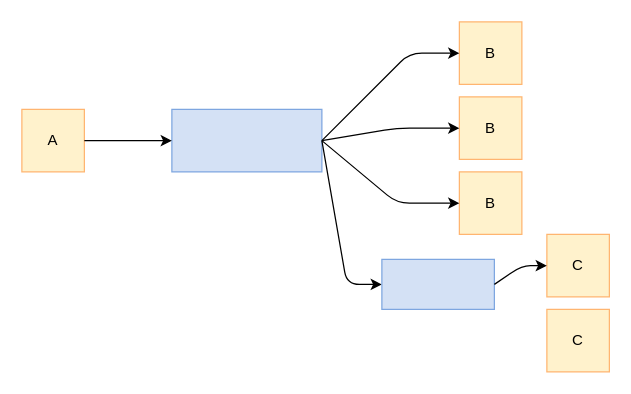
Some shapes in this 631 by 394 pixel diagram are drawn without their labels. Here are the shapes that lost their labels. From the top down, the box of each, then its label:
(171, 108, 322, 172): topic
(381, 258, 494, 309): queue
